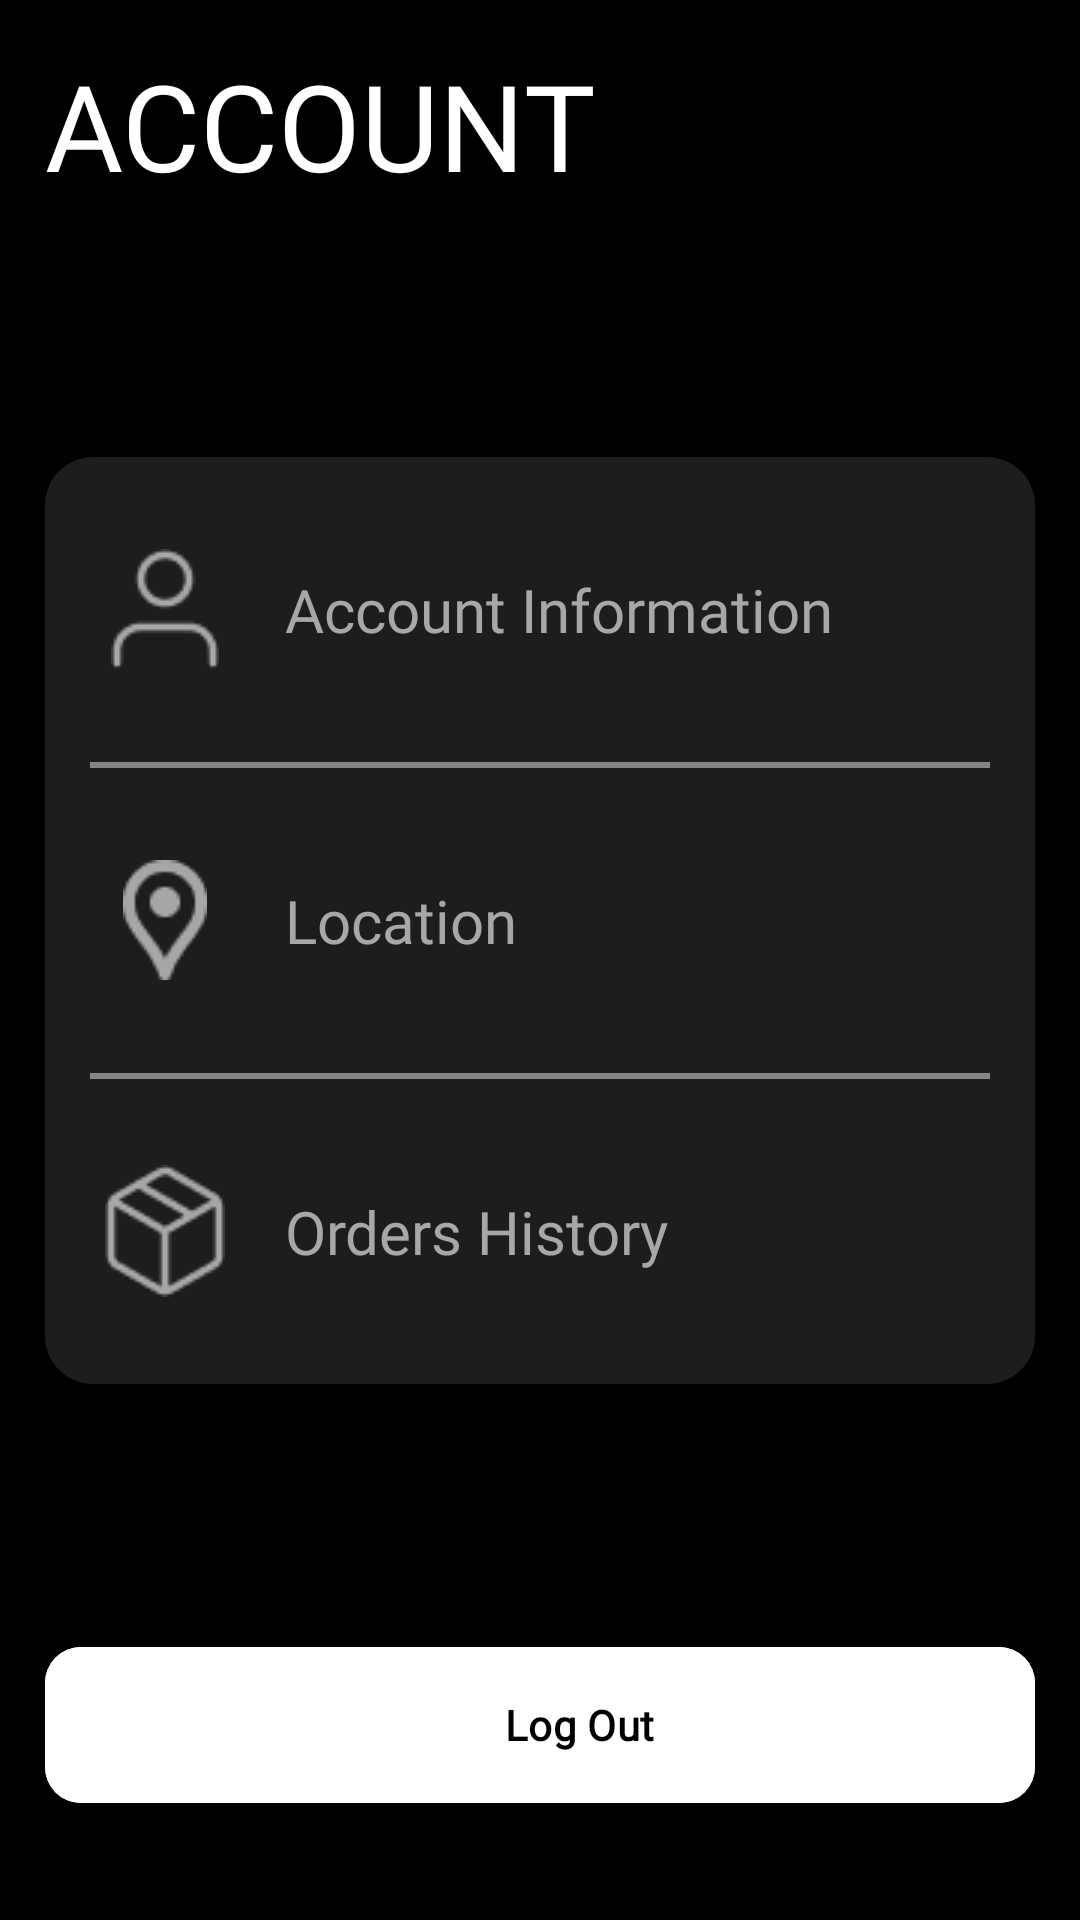

Icon click points for this 1080px×1920px phone screenshot, format (x,y):
packageinmetab: (165,1231)
userinmetab: (165,608)
